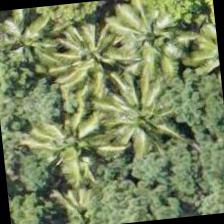Kelapa_Sawit: (96, 70, 196, 169), (40, 7, 138, 106), (18, 96, 116, 194), (98, 0, 197, 86), (33, 167, 129, 223)
